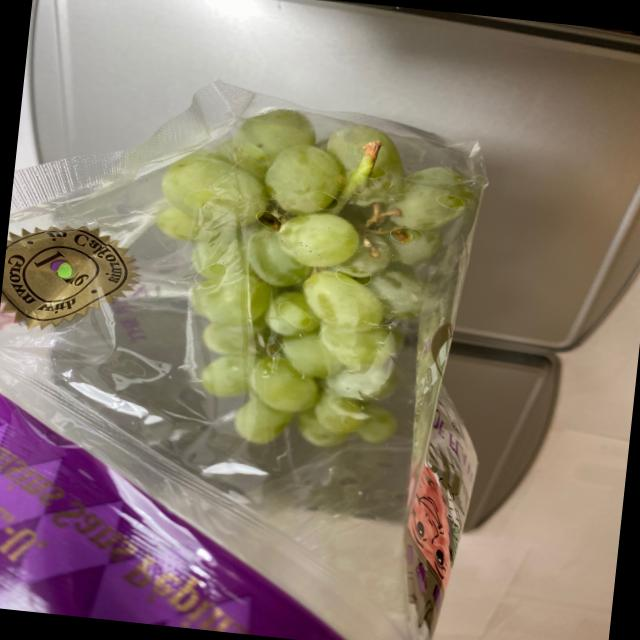grapes: (137, 102, 453, 470)
